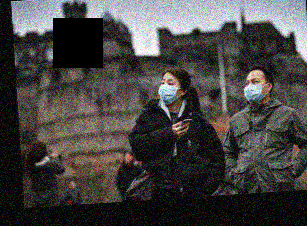with_mask: (242, 74, 267, 103), (156, 76, 180, 104)
without_mask: (122, 149, 133, 163)
